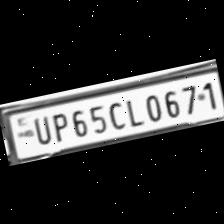0: (138, 89, 164, 123)
1: (194, 77, 220, 111)
5: (83, 100, 109, 134)
6: (64, 104, 90, 138), (156, 85, 182, 119)
7: (176, 81, 200, 115)
C: (103, 96, 127, 130)
L: (119, 93, 143, 127)
P: (46, 108, 71, 143)
U: (26, 112, 52, 146)
